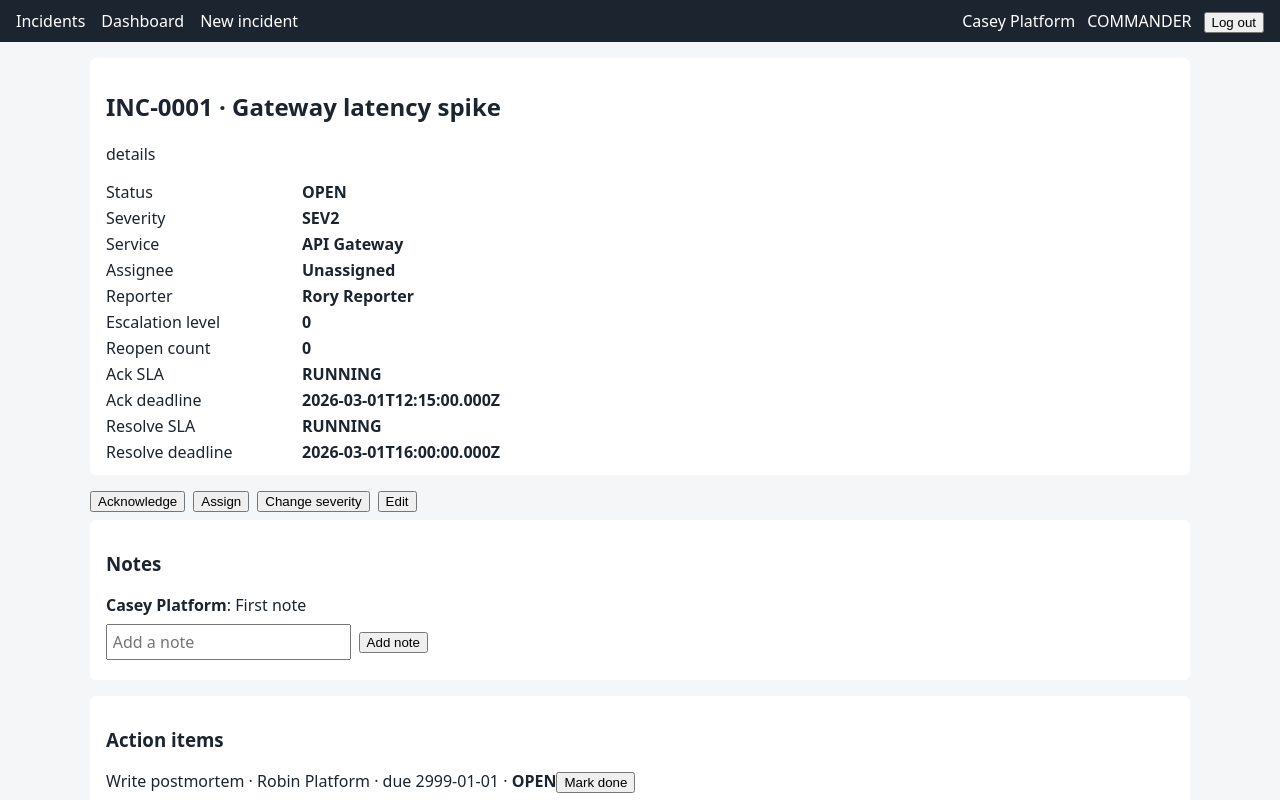
it: incident detail › acknowledge acts immediately, refreshes and shows a toast
This screenshot has width=1280, height=800.
Click the button with test id "action-acknowledge". click: (138, 502)
box: [90,491,185,512]
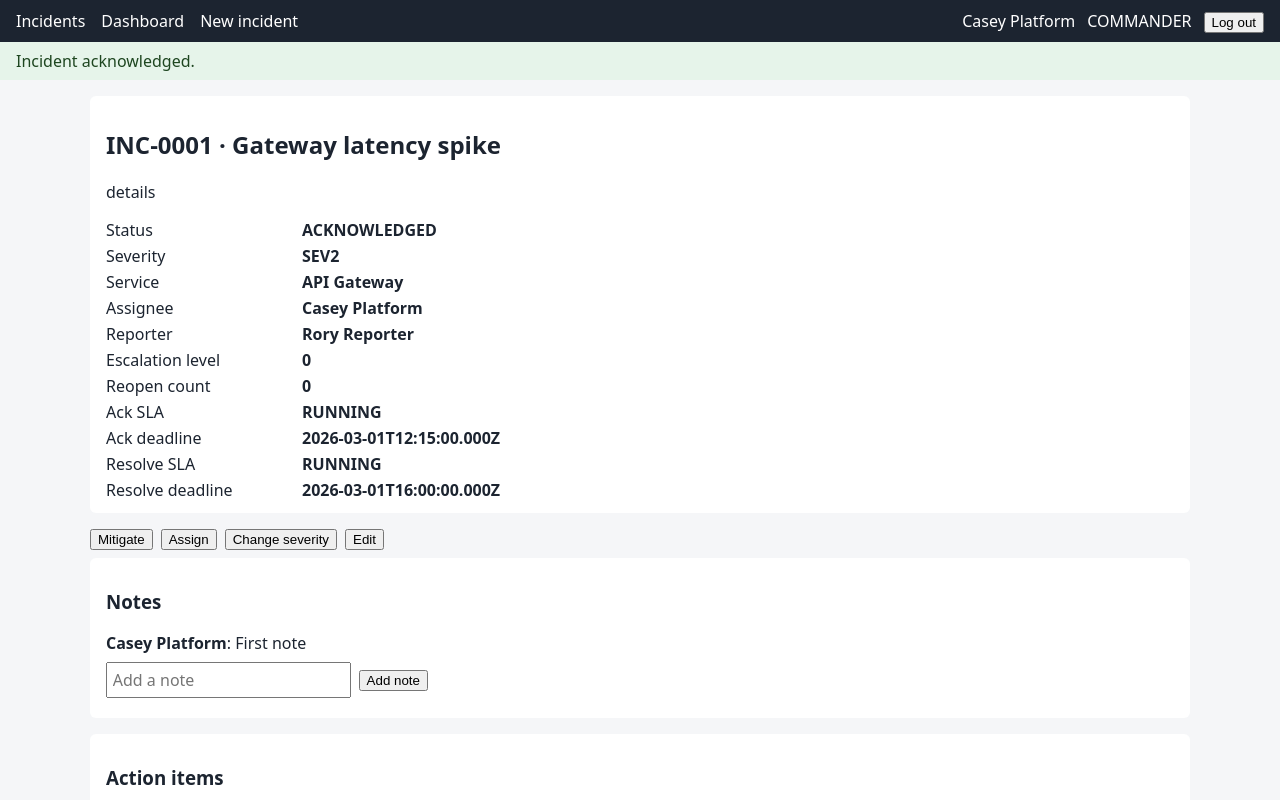
Expected: the message "Incident acknowledged." is shown, [0,42,1279,80]
Expected: the text "ACKNOWLEDGED" is shown, [302,219,437,241]
